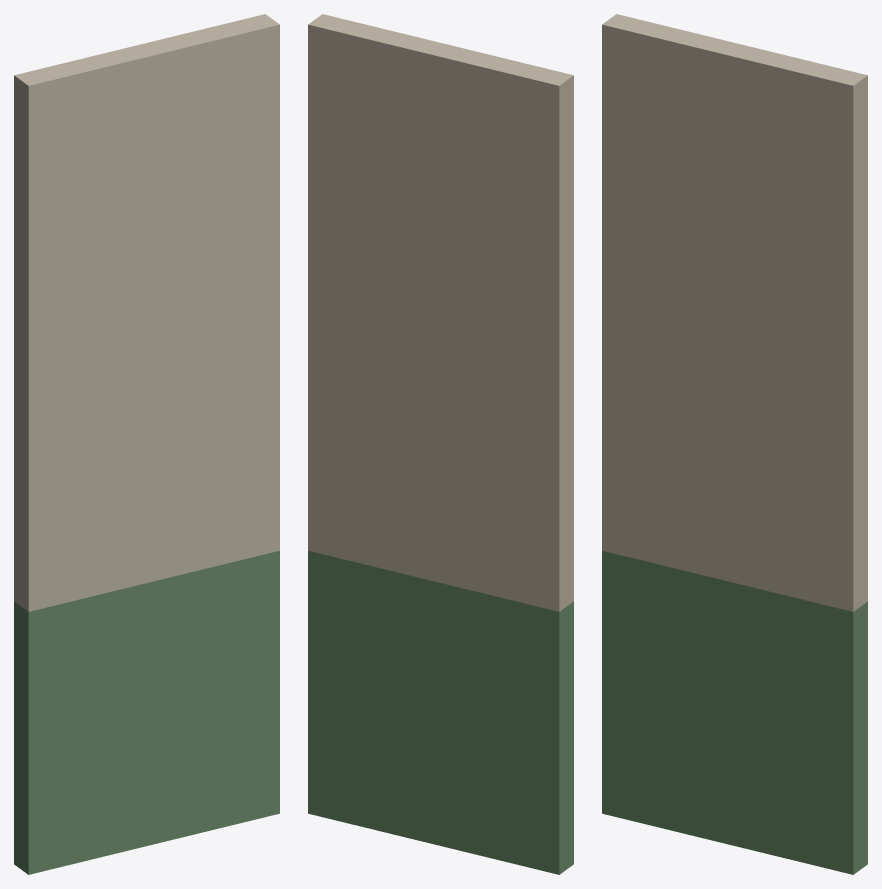
Rendered from Mesh_Wall2Colors_E1.fbx.
3 renders of one model, left to right at view 1: azimuth 30°, elevation 25°; view 2: azimuth 150°, elevation 25°; view 3: azimuth 330°, elevation 25°, orthographic.
Parts seen in each view (by area): view 1: Mesh_Wall2Colors_E1; view 2: Mesh_Wall2Colors_E1; view 3: Mesh_Wall2Colors_E1.
Boxes of the visible parts, x1,y1,x2,y2 form: Mesh_Wall2Colors_E1: [14, 14, 279, 874]; Mesh_Wall2Colors_E1: [308, 14, 573, 874]; Mesh_Wall2Colors_E1: [602, 14, 867, 874].
Size of the model in its own units: 1 by 3 by 0.1.
